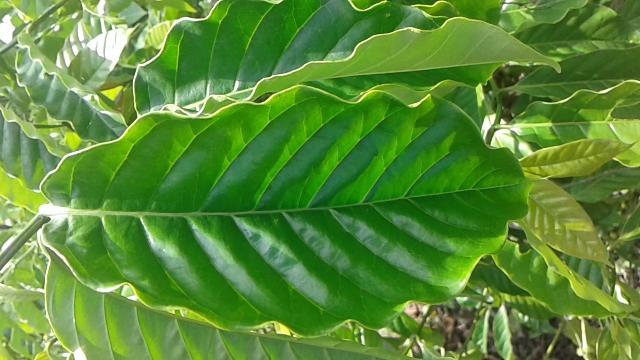healthy: (42, 80, 548, 336)
